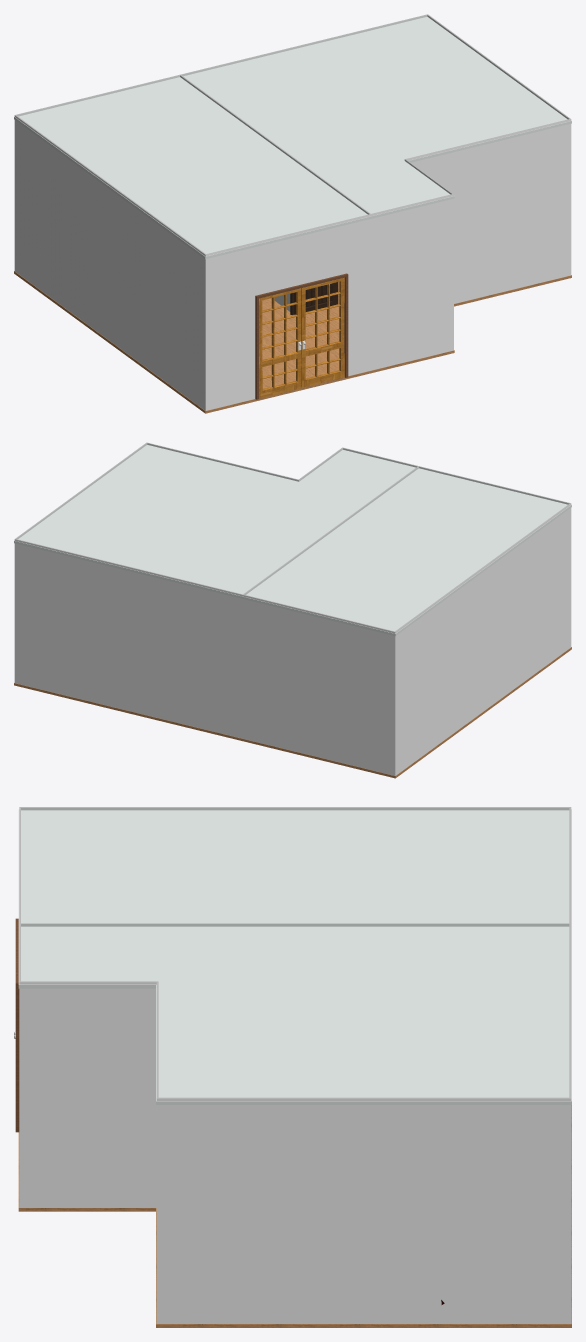
File: ProcTHOR-Train-60.glb
The picture shows the model from 3 angles, top to bottom: view 1: azimuth 30°, elevation 25°; view 2: azimuth 150°, elevation 25°; view 3: azimuth 270°, elevation 25°; orthographic projection. The views are drawn at different scales.
Visible parts, largest first — view 1: Ceiling#room|2|c, Ceiling#room|3|c, WallInside#wall|exterior|8.77|0.00|8.77|7.01, WallInside#wall|exterior|0.00|5.26|3.51|5.26, WallInside#wall|exterior|5.26|7.01|8.77|7.01, WallInside#wall|exterior|3.51|7.01|5.26|7.01, Floor#room|3|f, Doorway_Door_5b, Doorway_Door_5a, Floor#room|2|f, Doorway_Double_5, WallInside#wall|3|5.26|0.00|5.26|7.01 (+2 smaller); view 2: WallInside#wall|exterior|0.00|0.00|5.26|0.00, Ceiling#room|2|c, Ceiling#room|3|c, WallInside#wall|exterior|8.77|0.00|8.77|7.01, WallInside#wall|exterior|5.26|0.00|8.77|0.00, Floor#room|3|f, Floor#room|2|f, WallInside#wall|3|5.26|0.00|5.26|7.01; view 3: WallInside#wall|exterior|0.00|0.00|0.00|5.26, Ceiling#room|2|c, Ceiling#room|3|c, WallInside#wall|exterior|3.51|5.26|3.51|7.01, Floor#room|2|f, WallInside#wall|3|8.77|0.00|8.77|7.01, WallInside#wall|2|5.26|0.00|5.26|7.01, Doorway_Double_5.
Boxes of the visible parts, bbox=[...] form: Ceiling#room|2|c: bbox=[180, 16, 571, 218]; Ceiling#room|3|c: bbox=[14, 77, 371, 259]; WallInside#wall|exterior|8.77|0.00|8.77|7.01: bbox=[14, 115, 205, 410]; WallInside#wall|exterior|0.00|5.26|3.51|5.26: bbox=[406, 119, 571, 303]; WallInside#wall|exterior|5.26|7.01|8.77|7.01: bbox=[205, 214, 371, 410]; WallInside#wall|exterior|3.51|7.01|5.26|7.01: bbox=[370, 194, 453, 370]; Floor#room|3|f: bbox=[14, 271, 371, 413]; Doorway_Door_5b: bbox=[301, 278, 344, 387]; Doorway_Door_5a: bbox=[259, 288, 301, 398]; Floor#room|2|f: bbox=[305, 275, 571, 373]; Doorway_Double_5: bbox=[255, 273, 348, 399]; WallInside#wall|3|5.26|0.00|5.26|7.01: bbox=[180, 75, 370, 311]; WallInside#wall|exterior|0.00|0.00|5.26|0.00: bbox=[14, 539, 243, 738]; Ceiling#room|2|c: bbox=[14, 445, 418, 598]; Ceiling#room|3|c: bbox=[242, 468, 571, 635]; WallInside#wall|exterior|8.77|0.00|8.77|7.01: bbox=[395, 503, 571, 775]; WallInside#wall|exterior|5.26|0.00|8.77|0.00: bbox=[243, 595, 395, 775]; Floor#room|3|f: bbox=[242, 647, 571, 778]; Floor#room|2|f: bbox=[14, 683, 243, 741]; WallInside#wall|3|5.26|0.00|5.26|7.01: bbox=[244, 466, 418, 594]; WallInside#wall|exterior|0.00|0.00|0.00|5.26: bbox=[157, 1098, 571, 1323]; Ceiling#room|2|c: bbox=[18, 925, 571, 1104]; Ceiling#room|3|c: bbox=[18, 809, 571, 925]; WallInside#wall|exterior|3.51|5.26|3.51|7.01: bbox=[19, 982, 157, 1207]; Floor#room|2|f: bbox=[18, 1149, 571, 1327]; WallInside#wall|3|8.77|0.00|8.77|7.01: bbox=[21, 807, 570, 810]; WallInside#wall|2|5.26|0.00|5.26|7.01: bbox=[21, 923, 569, 926]; Doorway_Double_5: bbox=[15, 918, 19, 1132].
Size of what is drawn, in the model's own units: 8.81 by 3.22 by 7.11.
108 materials, 39 textured.
